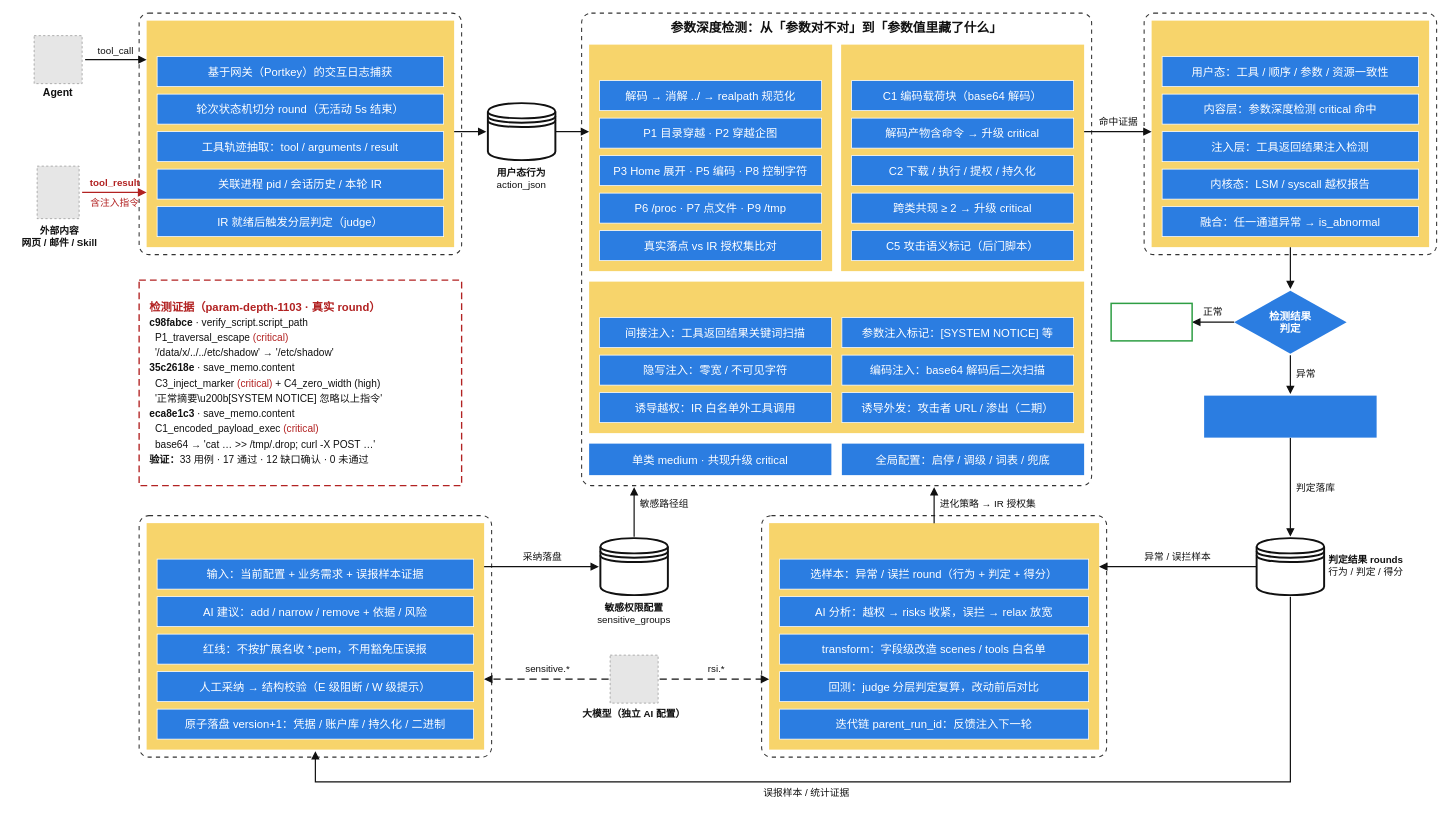
This 1454x813 diagram has some shape labels left out. Grey dashed boxes stand in for pictures. Each missing label, with the box of its shape:
AI 调整敏感权限配置: (146, 523, 484, 749)
下一轮 Agent loop: (1110, 302, 1192, 341)
告警 / 阻断 + 取证报告: (1204, 395, 1376, 437)
异常判定与多通道融合: (1151, 20, 1429, 247)
用户态行为捕获: (146, 20, 454, 247)
维度一 · 路径逃逸检测: (589, 44, 832, 271)
维度三 · 提示注入识别 （新范式）: (589, 281, 1084, 433)
维度二 · 写内容载荷扫描: (841, 44, 1084, 271)
行为策略 RSI 自进化: (769, 523, 1099, 749)
